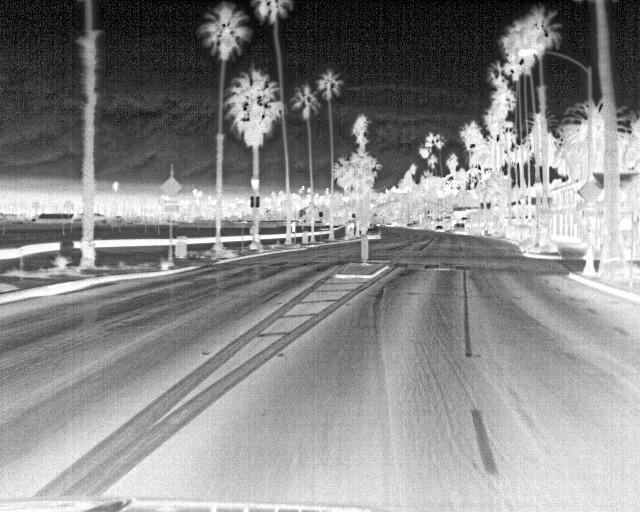car: (450, 221, 469, 238), (366, 224, 383, 240), (433, 224, 446, 234)
